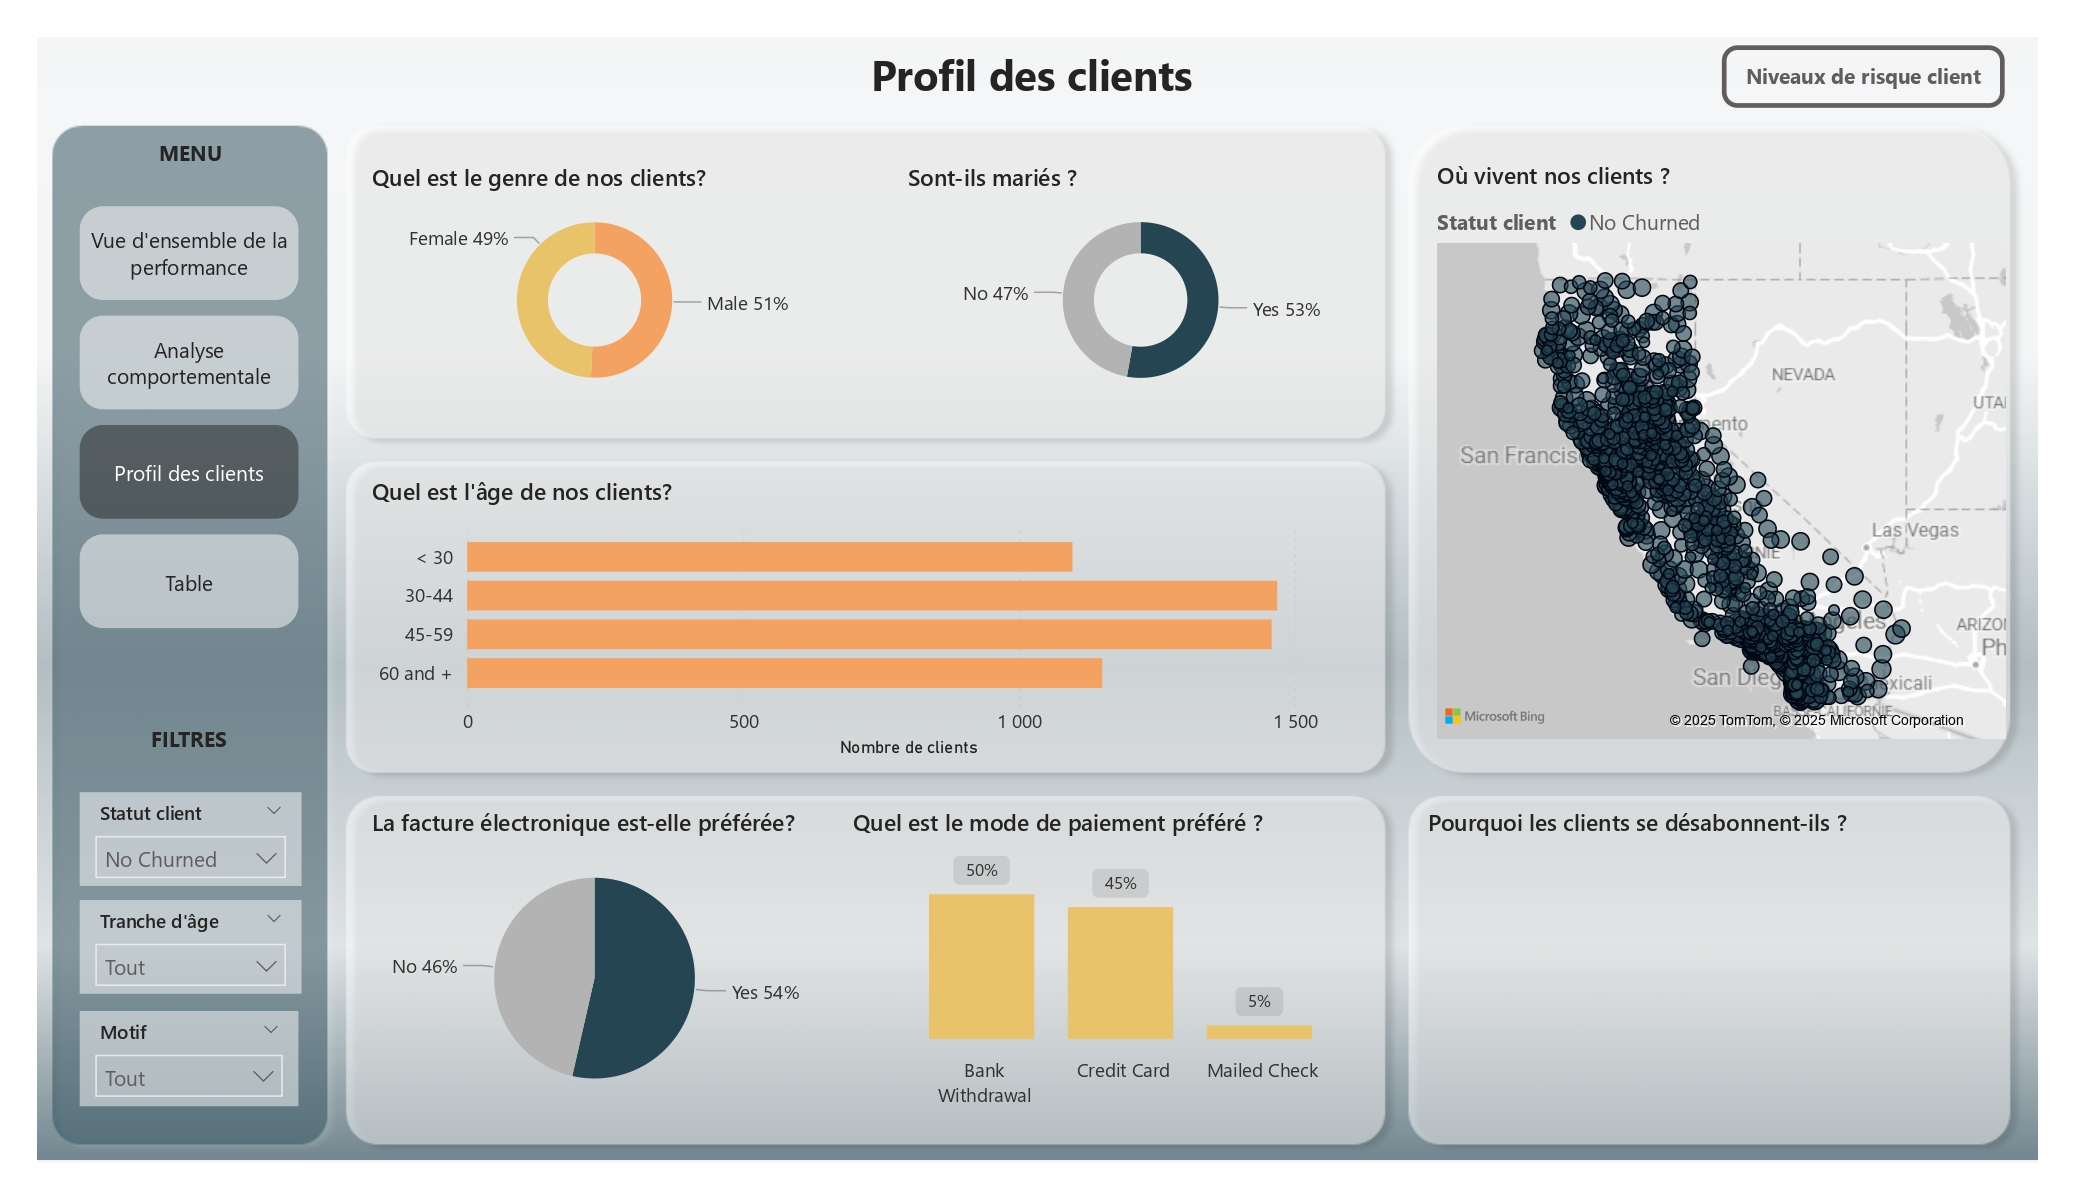

Layout of this report page (visuals, bound fields, positions):
{"tool":"powerbi","page":{"name":"Profil des clients","canvas":[1280,720],"ordinal":3},"visuals":[{"type":"map","title":"Où vivent nos clients ?","fields":{"Size":["CountNonNull(UsageCharges.Customer ID)"],"Y":["DimCustomer.Latitude"],"X":["DimCustomer.Longitude"],"Series":["DimCustomer.Customer Status"]},"box":[890.9,77.6,373.8,376.1],"z":6000},{"type":"donutChart","title":"Quel est le genre de nos clients?","fields":{"Category":["DimCustomer.Gender"],"Y":["Count(DimCustomer.Customer ID)"]},"box":[209.2,78.8,295,158.7],"z":7000},{"type":"treemap","title":"Pourquoi les clients se désabonnent-ils ?","fields":{"Values":["CountNonNull(DimCustomer.Churn Reason)"],"Group":["DimCustomer.Churn Category"]},"box":[885.1,492.5,373.8,199.8],"z":8000},{"type":"clusteredBarChart","title":"Quel est l''âge de nos clients?","fields":{"Category":["DimCustomer.Age Range"],"Y":["CountNonNull(DimCustomer.Customer ID)"]},"box":[209.2,279.7,651.2,185.7],"z":9000},{"type":"slicer","fields":{"Values":["DimCustomer.Customer Status"]},"box":[27.2,482.8,142.1,60.5],"z":10000},{"type":"donutChart","title":"Sont-ils mariés ?","fields":{"Category":["DimCustomer.Married"],"Y":["CountNonNull(DimCustomer.Customer ID)"]},"box":[552.4,78.8,308,158.7],"z":11000},{"type":"clusteredColumnChart","title":"Quel est le mode de paiement préféré ?","fields":{"Category":["DimCustomer.Payment Method"],"Y":["Divide(CountNonNull(DimCustomer.Customer ID), ScopedEval(CountNonNull(DimCustomer.Customer ID), []))"]},"box":[517.2,492.5,343.2,199.8],"z":12000},{"type":"pieChart","title":"La facture électronique est-elle préférée?","fields":{"Category":["DimCustomer.Paperless Billing"],"Y":["CountNonNull(DimCustomer.Customer ID)"]},"box":[209.2,492.5,295,199.8],"z":13000},{"type":"slicer","fields":{"Values":["DimCustomer.Age Range"]},"box":[27.2,552.3,142.1,59.5],"z":14000},{"type":"actionButton","box":[1078.4,5,180.4,40.3],"z":15000},{"type":"textbox","box":[0,0,1280,50.4],"z":16000},{"type":"pageNavigator","box":[27.2,107.8,140.1,272.1],"z":17000},{"type":"slicer","fields":{"Values":["DimCustomer.Churn Category"]},"box":[27.2,622.9,140.1,61.5],"z":18000},{"type":"textbox","box":[49.4,60.5,97.8,36.3],"z":19000},{"type":"textbox","box":[48.4,435.4,97.8,31.2],"z":20000}]}

Visuals, with their boxes on the page's 1280x720 design canvas (x1, y1, x2, y2). These are canvas units, not pixel positions in the 2075x1200 screenshot, which may show the page scaled, cropped or inside an application window:
"Où vivent nos clients ?" map: [x1=891, y1=78, x2=1265, y2=454]
"Quel est le genre de nos clients?" donutChart: [x1=209, y1=79, x2=504, y2=238]
"Pourquoi les clients se désabonnent-ils ?" treemap: [x1=885, y1=492, x2=1259, y2=692]
"Quel est l''âge de nos clients?" clusteredBarChart: [x1=209, y1=280, x2=860, y2=465]
slicer - DimCustomer.Customer Status: [x1=27, y1=483, x2=169, y2=543]
"Sont-ils mariés ?" donutChart: [x1=552, y1=79, x2=860, y2=238]
"Quel est le mode de paiement préféré ?" clusteredColumnChart: [x1=517, y1=492, x2=860, y2=692]
"La facture électronique est-elle préférée?" pieChart: [x1=209, y1=492, x2=504, y2=692]
slicer - DimCustomer.Age Range: [x1=27, y1=552, x2=169, y2=612]
actionButton: [x1=1078, y1=5, x2=1259, y2=45]
textbox: [x1=0, y1=0, x2=1280, y2=50]
pageNavigator: [x1=27, y1=108, x2=167, y2=380]
slicer - DimCustomer.Churn Category: [x1=27, y1=623, x2=167, y2=684]
textbox: [x1=49, y1=60, x2=147, y2=97]
textbox: [x1=48, y1=435, x2=146, y2=467]
